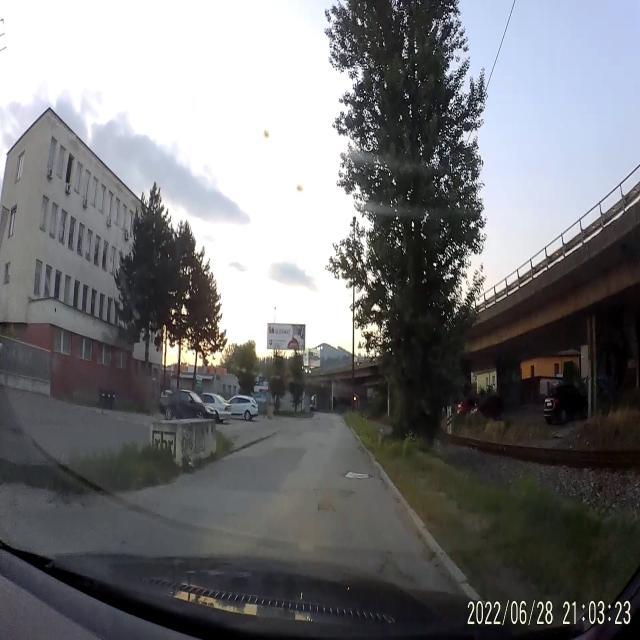Pothole: (376, 554, 417, 586), (344, 466, 376, 486), (318, 498, 337, 520)
